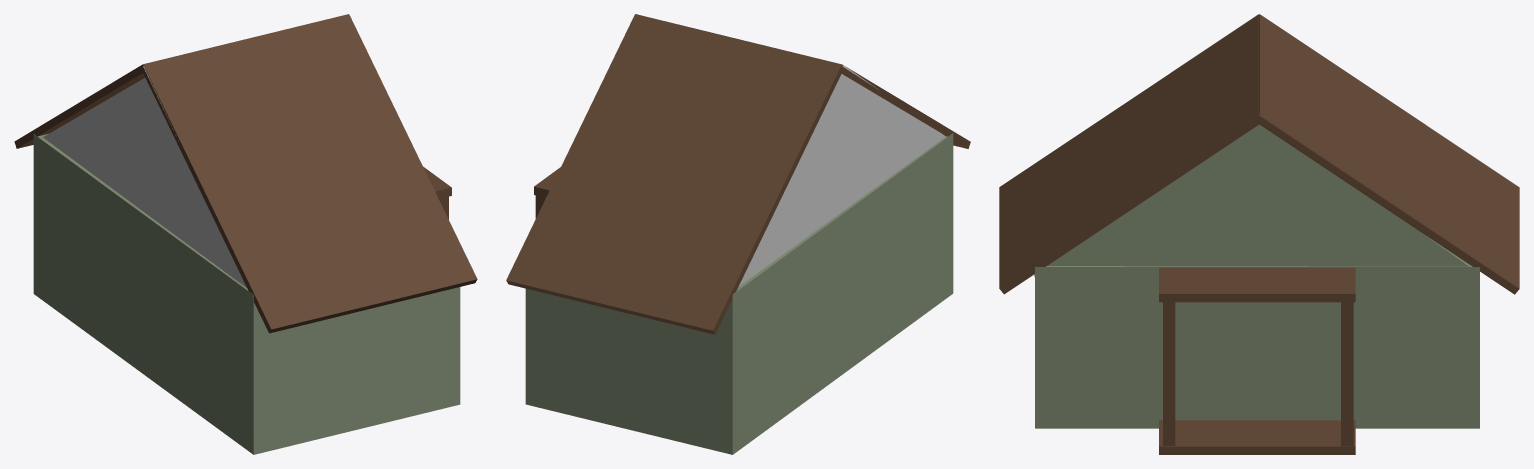
File: domsasiadki.glb
3 views of the same model, side by side, from view 1: azimuth 30°, elevation 25°; view 2: azimuth 150°, elevation 25°; view 3: azimuth 270°, elevation 25° (orthographic).
Parts seen in each view (by area): view 1: Cube.006, Cube, Cube.008, Cube.005; view 2: Cube.005, Cube, Cube.008, Cube.006; view 3: Cube, Cube.007, Cube.005, Cube.006, Cube.002, Cube.001, Cube.004, Cube.003.
Part boxes in pixels (<box>): Cube.006: <box>141,14,477,333</box>; Cube: <box>33,133,460,454</box>; Cube.008: <box>43,66,246,287</box>; Cube.005: <box>14,14,348,148</box>; Cube.005: <box>506,14,843,334</box>; Cube: <box>525,133,953,454</box>; Cube.008: <box>738,65,945,286</box>; Cube.006: <box>635,14,970,148</box>; Cube: <box>1035,235,1479,428</box>; Cube.007: <box>1034,115,1468,276</box>; Cube.005: <box>1255,14,1519,294</box>; Cube.006: <box>999,14,1262,294</box>; Cube.002: <box>1159,267,1355,302</box>; Cube.001: <box>1159,420,1355,454</box>; Cube.004: <box>1341,302,1353,446</box>; Cube.003: <box>1163,302,1175,445</box>.
Bounding box in the file's own units: 9.13 × 10.38 × 15.63.
9 materials, 9 textured.
